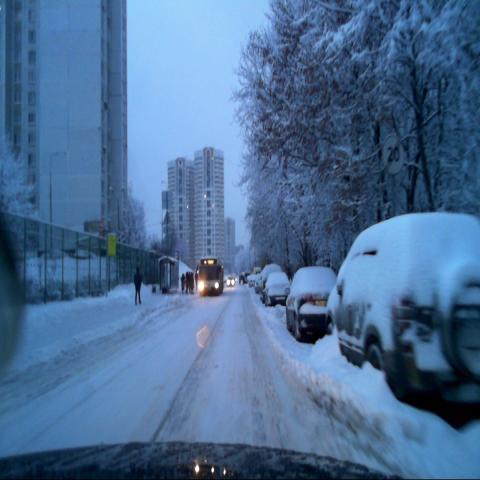3_25: (381, 132, 405, 175)
